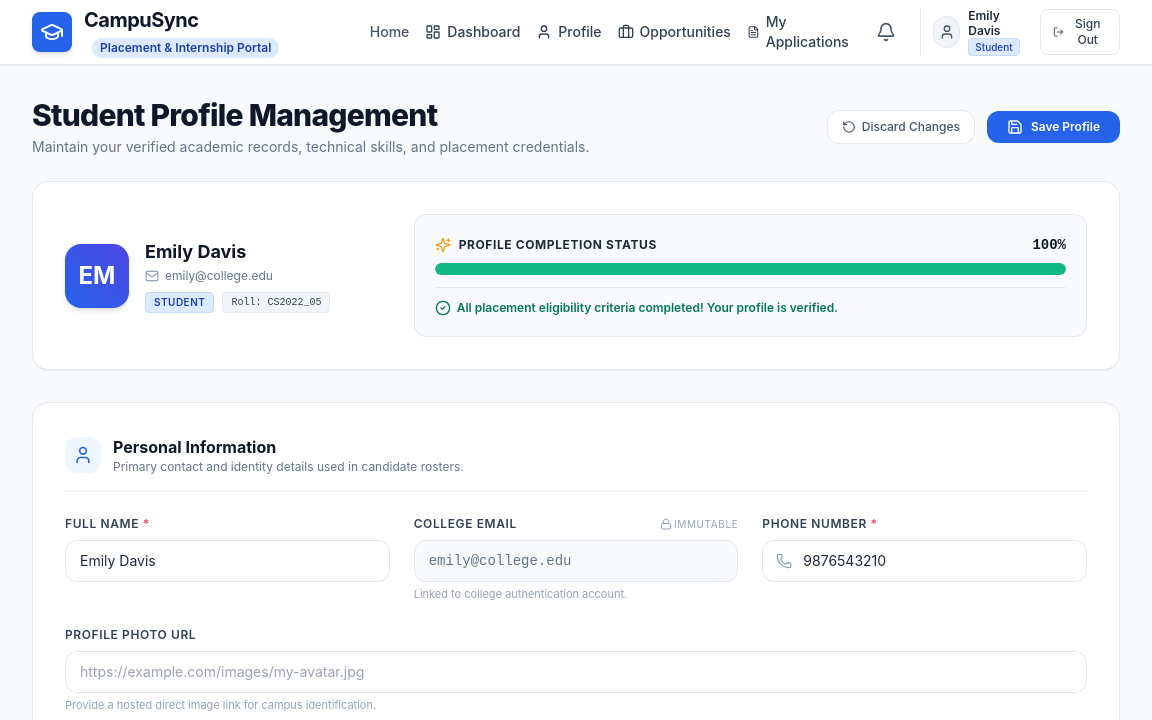
Test: Student Profile Management Flow (/profile) › discards unsaved modifications when reset is clicked
This screenshot has width=1152, height=720.
Replace the text in the field with test id "input-phone" with "0000000000": x=925, y=561 [762, 540, 1087, 582]
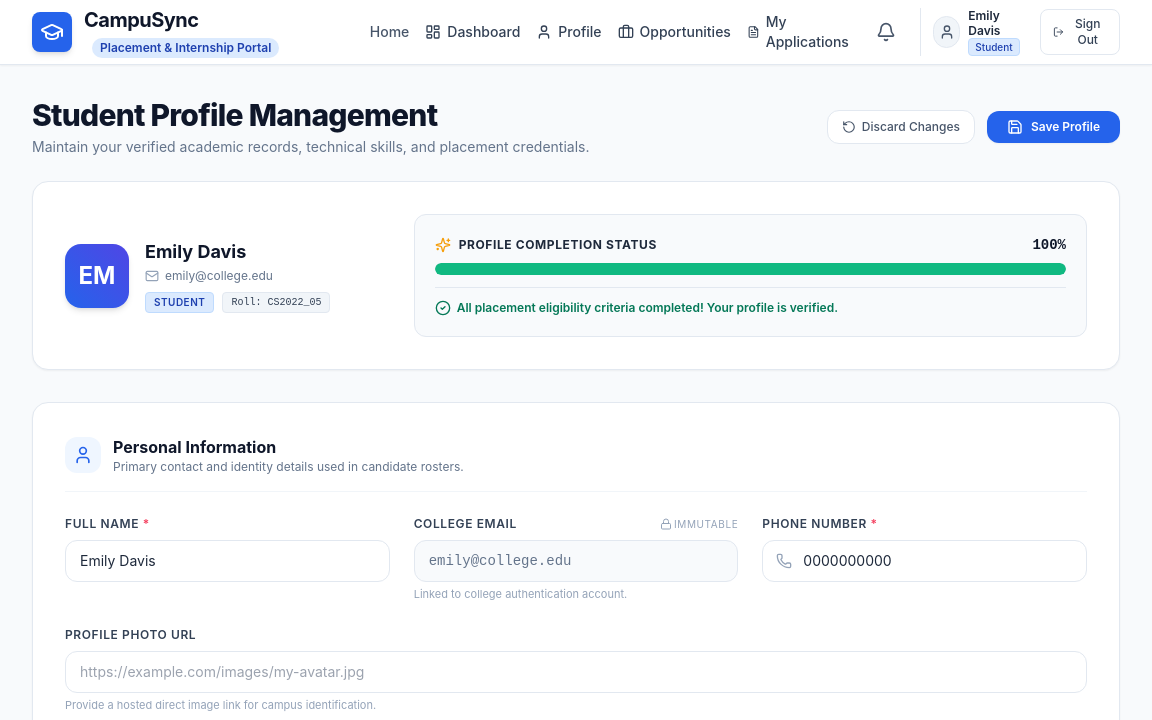
Click the button with test id "reset-profile-btn": x=901, y=127 [827, 110, 975, 144]
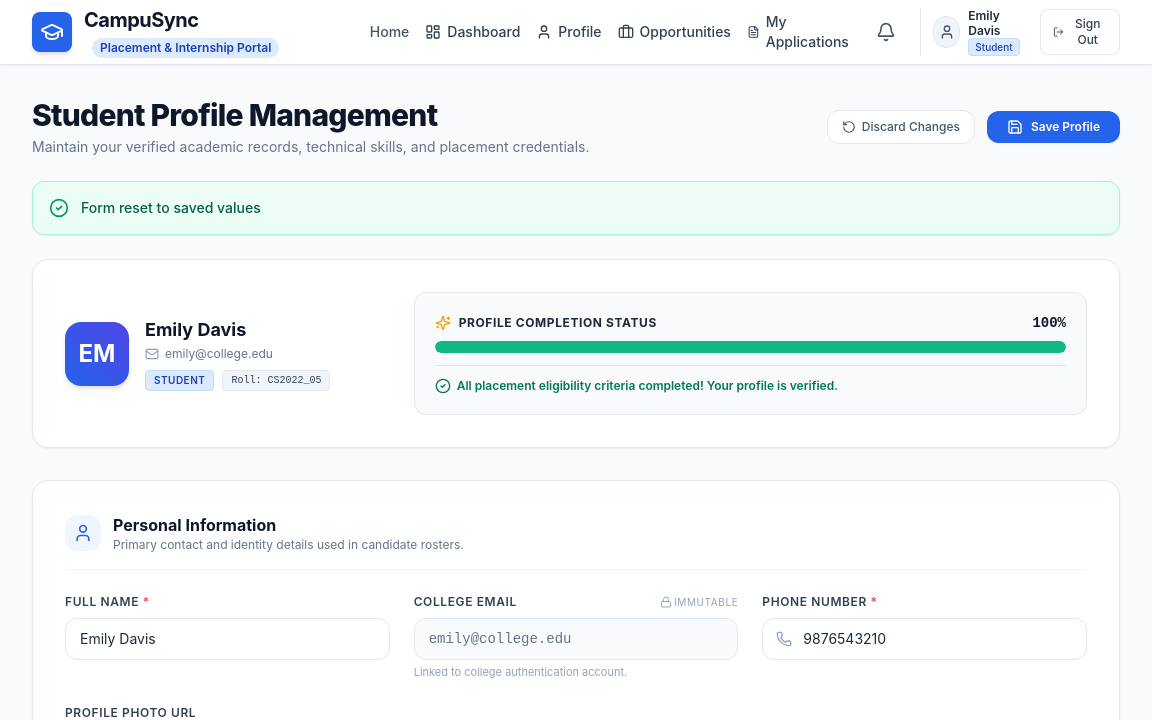
Expected: the field with test id "input-phone" holds "9876543210", [762, 618, 1087, 660]
